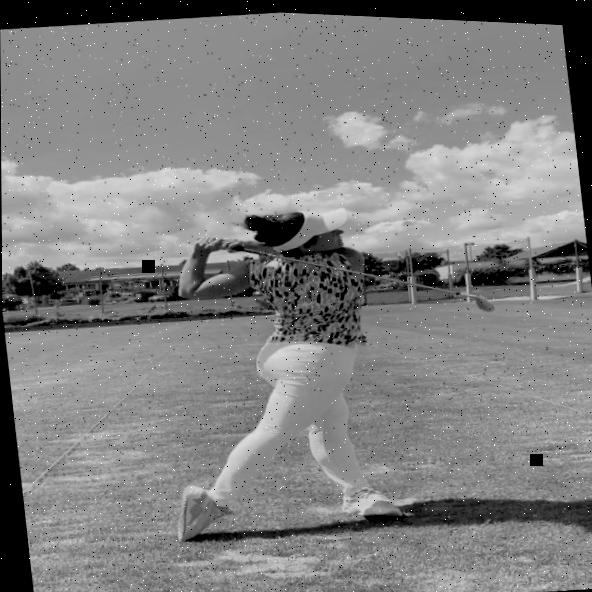ClubHead: (475, 289, 495, 309)
